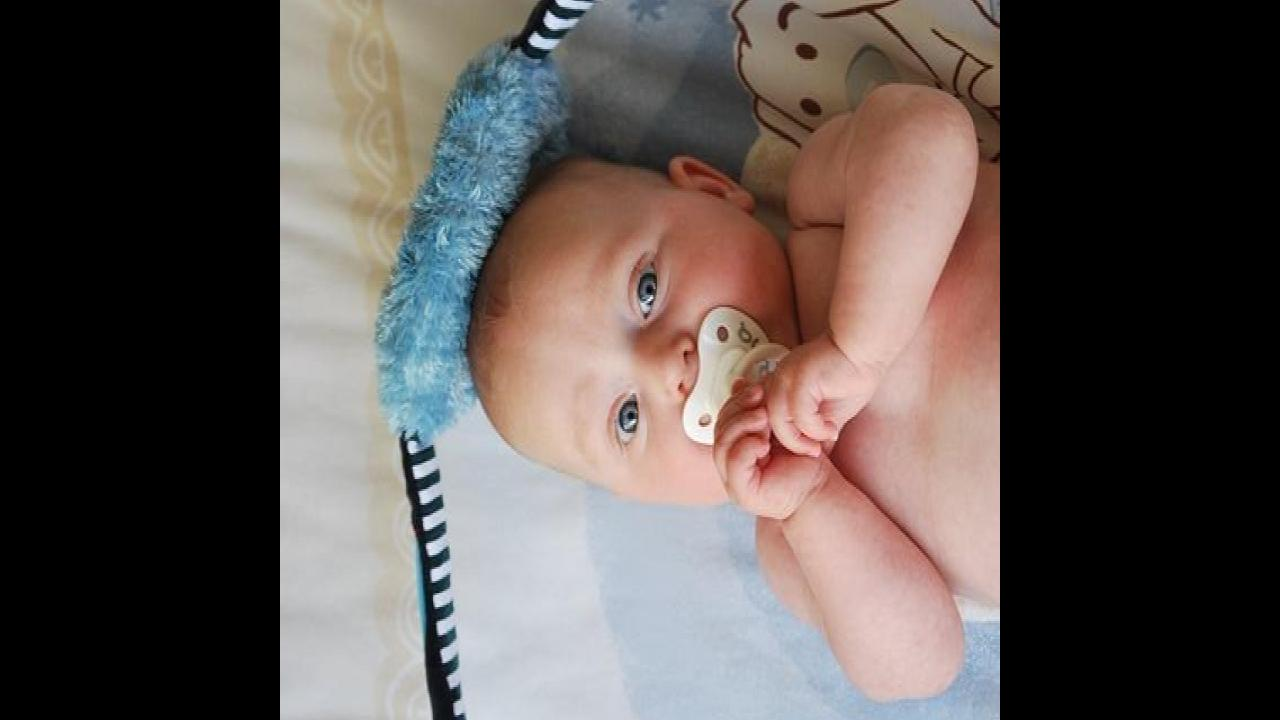hand: (712, 378, 824, 520), (766, 336, 868, 457)
